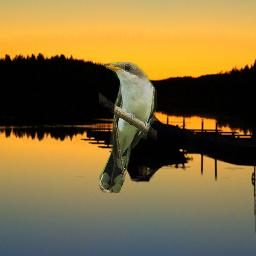Cuckoo: (99, 62, 157, 193)
